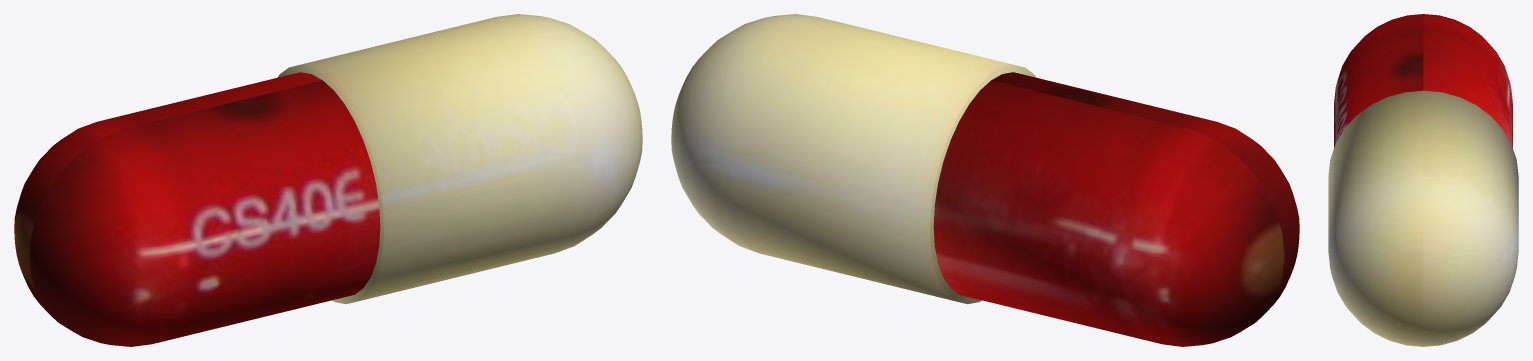
Rendered from 20140311GOPHDRGPT01122.fbx.
3 renders of one model, left to right at view 1: azimuth 30°, elevation 25°; view 2: azimuth 150°, elevation 25°; view 3: azimuth 270°, elevation 25°, orthographic. The views are drawn at different scales.
Visible parts, largest first — view 1: 球體.008; view 2: 球體.008; view 3: 球體.008.
Part boxes in pixels (left/top/right/bottom): 球體.008: left=14, top=14, right=642, bottom=346; 球體.008: left=671, top=14, right=1299, bottom=346; 球體.008: left=1328, top=14, right=1518, bottom=346.
Bounding box in the file's own units: 1.62 × 0.5742 × 0.5742.
